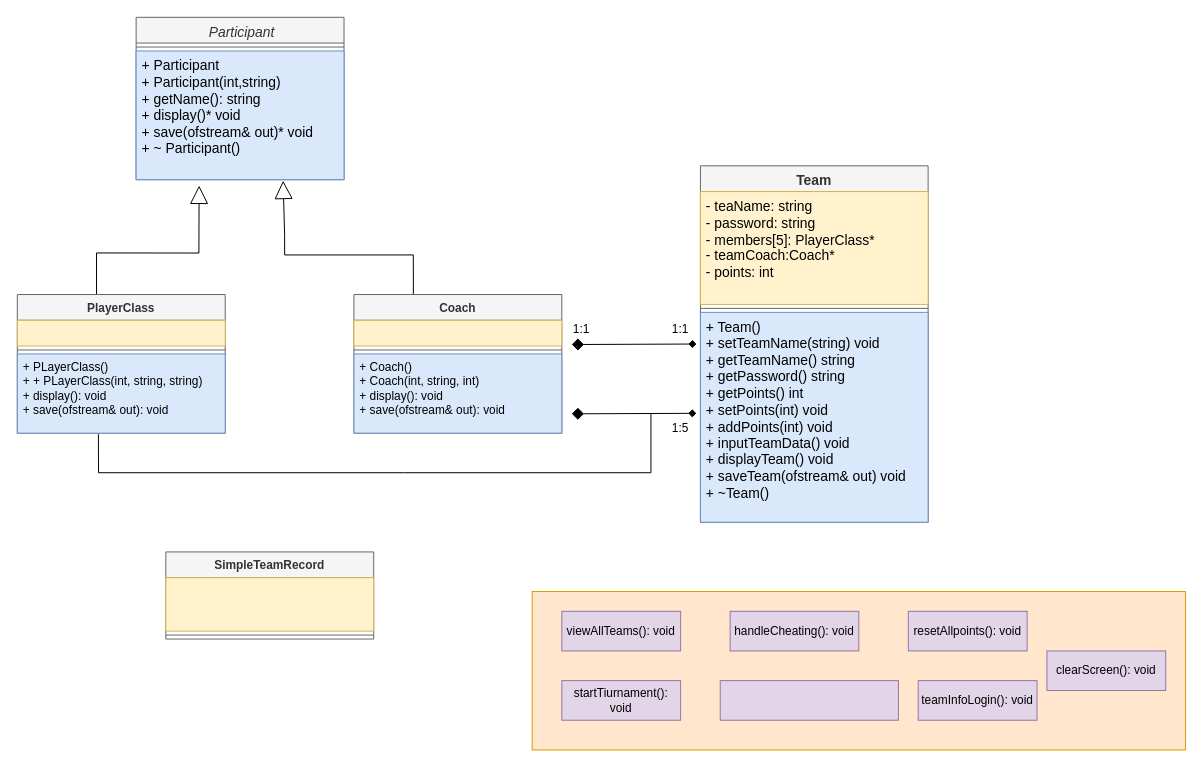
This 1203x767 diagram has some shape labels left out. Here are the shapes that lost their labels. From the top down, the centre of each, then its label:
At point 120,332: "- role: string".
At point 457,332: "- exp: int".
At point 269,604: "+ name: string + points: int + restof Data: string".
At point 808,700: "viewMatchHistoryMenu(): void".
